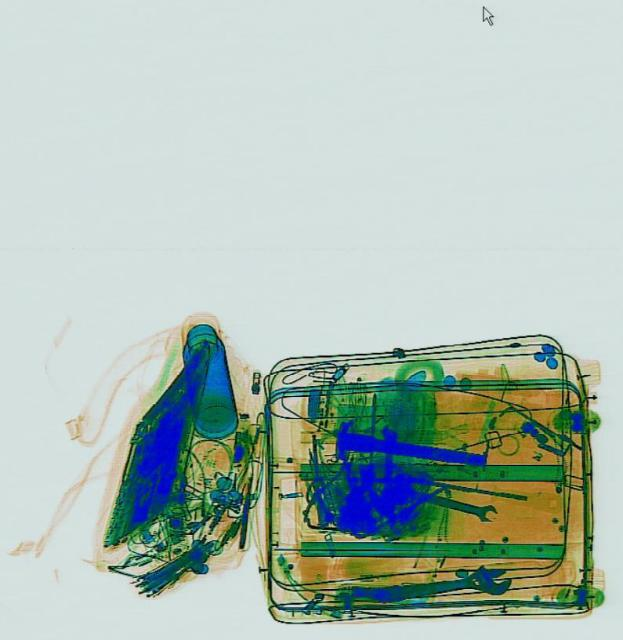Wrench: (349, 560, 513, 612), (407, 480, 498, 526)
